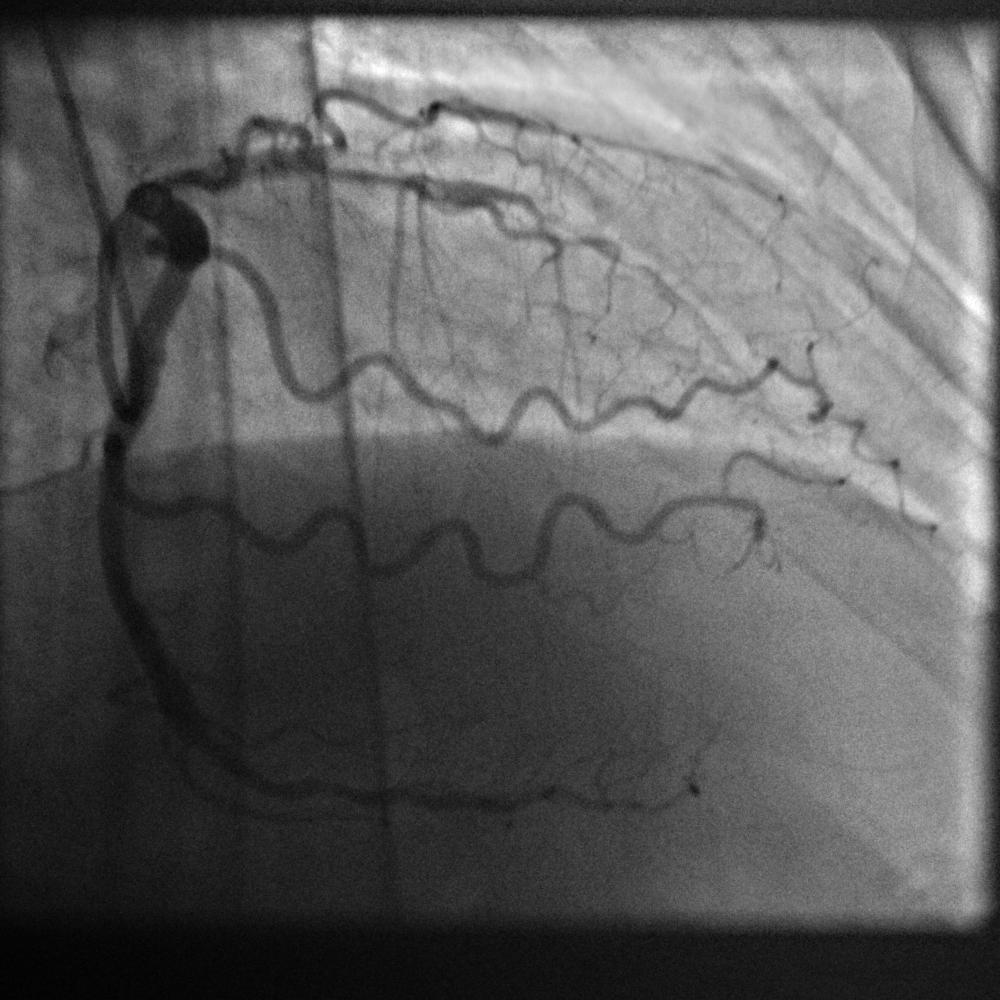Stenosis: (179, 712, 236, 768)
